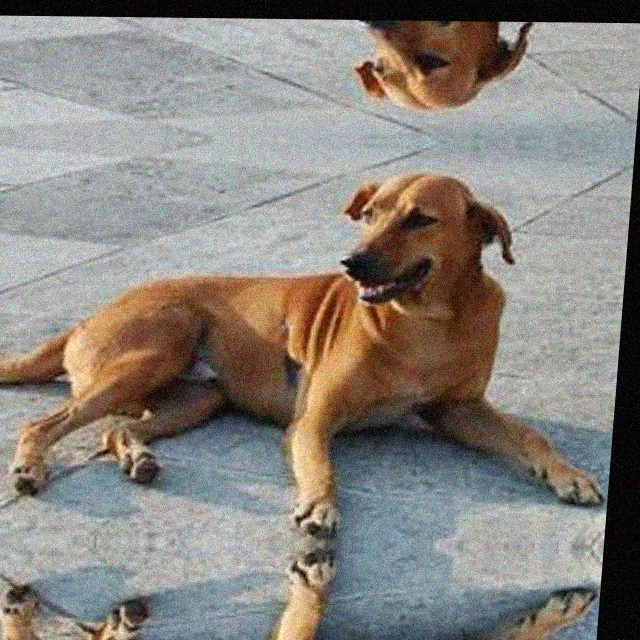dog: (0, 155, 574, 547), (0, 15, 585, 122), (0, 539, 544, 640)
